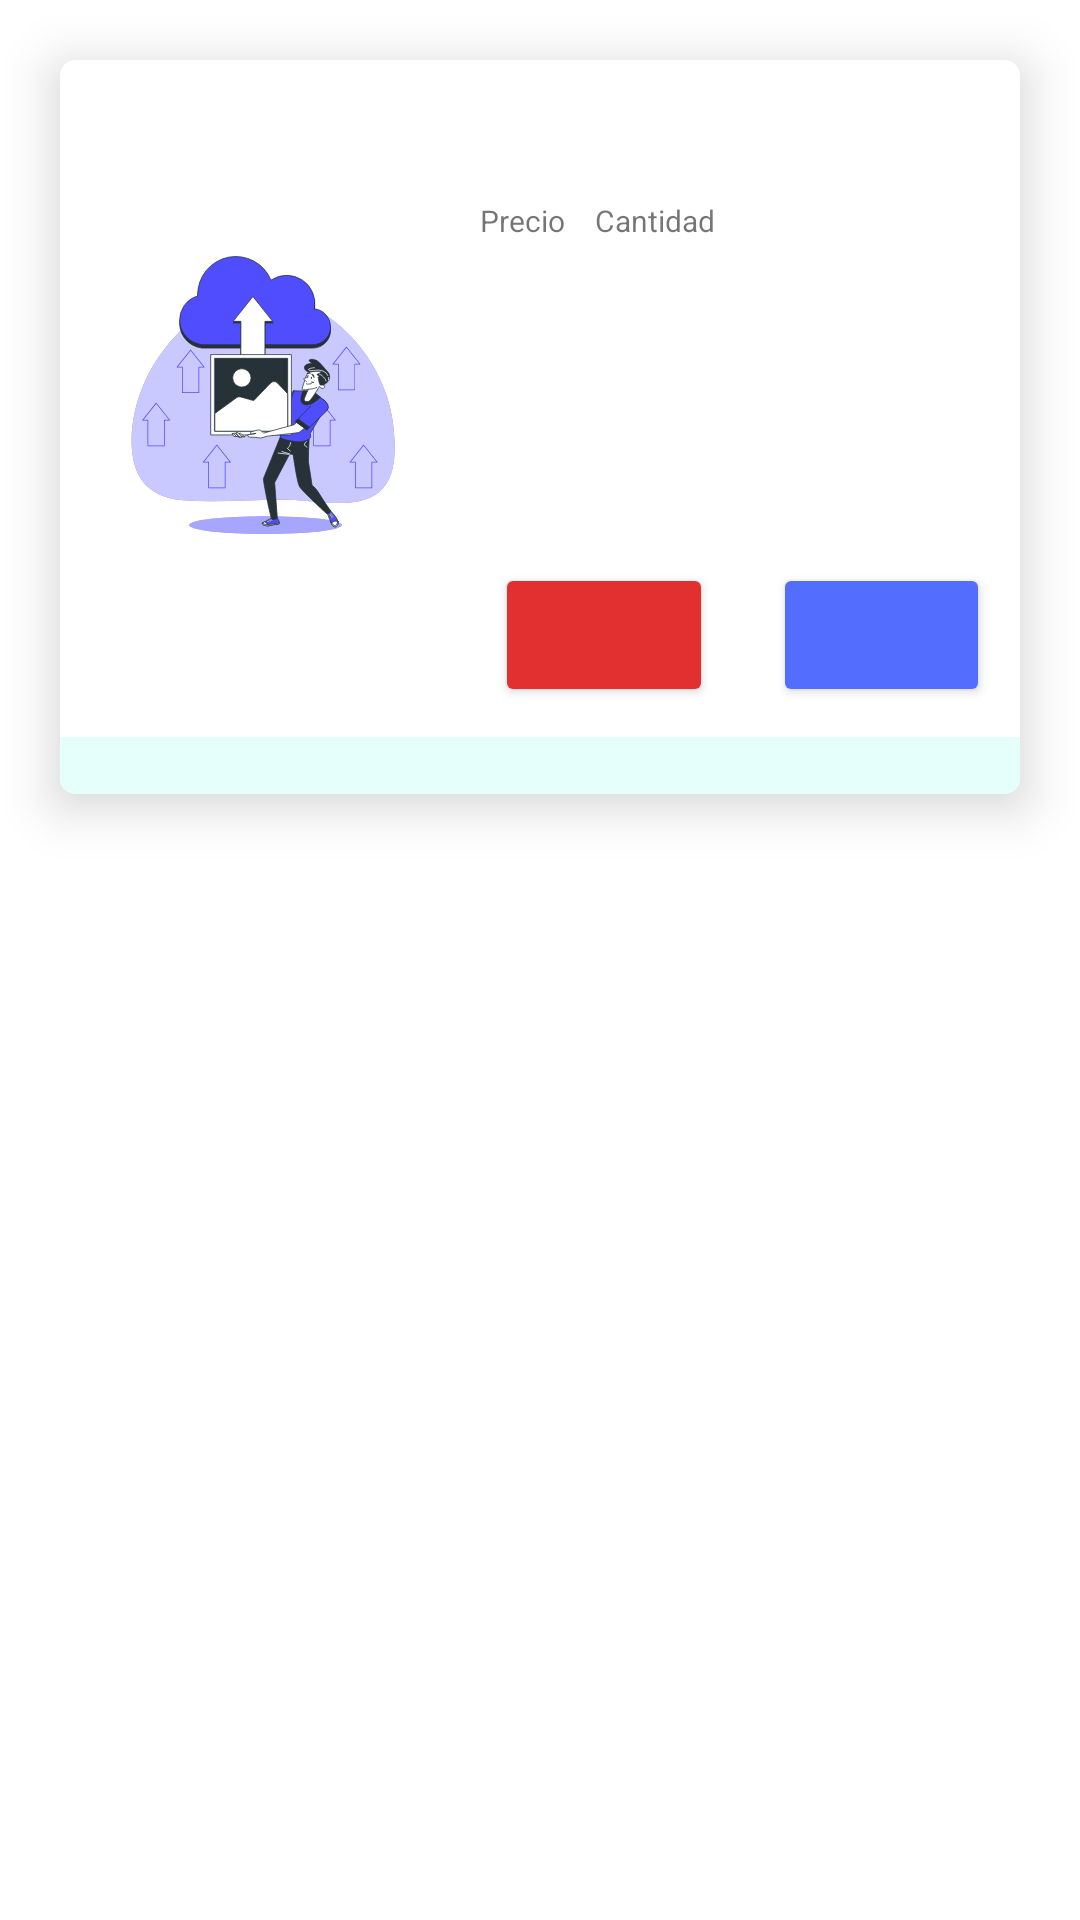

Named icons in this screenshot (1080px x 1920px) and their bounding boxes, (x1, y1, x2, y2):
upload bro: (131, 256, 395, 534)
